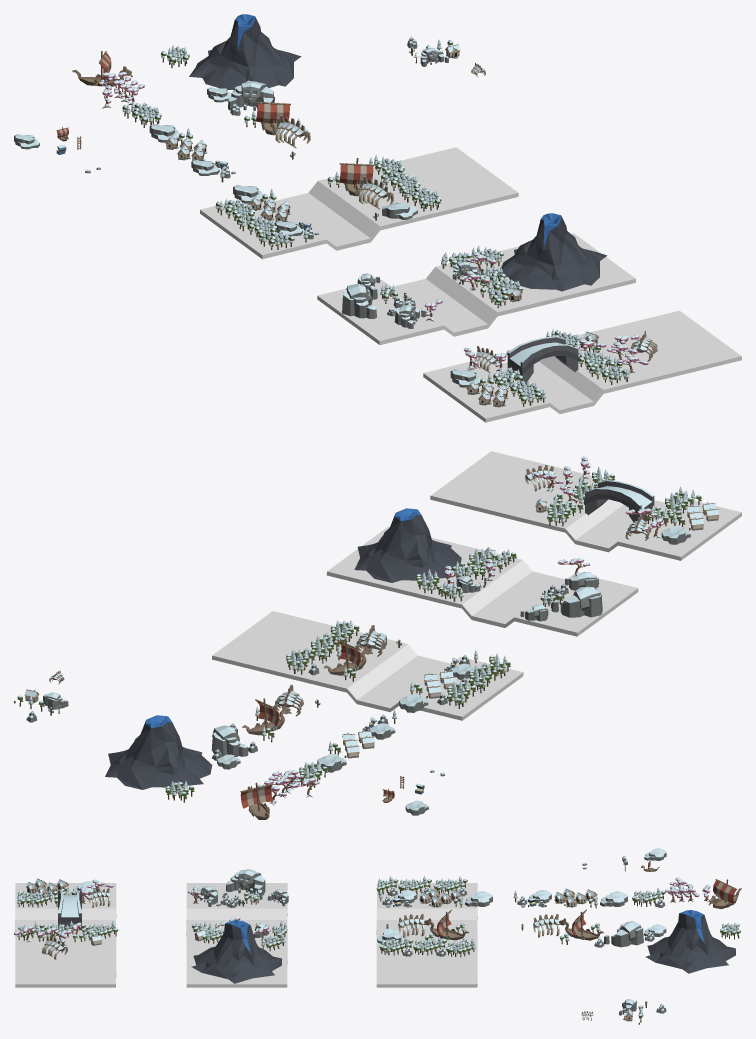
File: chi menn_002.fbx
The picture shows the model from 3 angles, top to bottom: view 1: azimuth 30°, elevation 25°; view 2: azimuth 150°, elevation 25°; view 3: azimuth 270°, elevation 25°; orthographic projection. The views are drawn at different scales.
Parts seen in each view (by area): view 1: 平面.002, 平面.003, 平面.001, SM_Tile_Hex_Mountain_05_924.001, SM_Tile_Hex_Mountain_05_924, SM_Prop_Generic_Bridge_01_Snow_1366, SM_Env_Pirate_SkullRock_01_Snow_1330.005, SM_Env_Pirate_SkullRock_01_Snow_1330.002, SM_Prop_Viking_Boat_01_652.003, SM_Prop_Viking_Boat_01_652.001; view 2: 平面.002, 平面.003, 平面.001, SM_Tile_Hex_Mountain_05_924, SM_Tile_Hex_Mountain_05_924.001, SM_Prop_Generic_Bridge_01_Snow_1366, SM_Env_Pirate_SkullRock_01_Snow_1330.005, SM_Env_Pirate_SkullRock_01_Snow_1330.002, SM_Prop_Viking_Boat_01_652.002, SM_Prop_Viking_Boat_01_652.003, SM_Prop_Viking_Boat_01_652.001; view 3: 平面.003, 平面.002, 平面.001, SM_Tile_Hex_Mountain_05_924, SM_Tile_Hex_Mountain_05_924.001, SM_Env_Pirate_SkullRock_01_Snow_1330.005, SM_Prop_Generic_Bridge_01_Snow_1366, SM_Env_Pirate_SkullRock_01_Snow_1330.002, SM_Prop_Viking_Boat_01_652.002, SM_Prop_Viking_Boat_01_652.001, SM_Prop_Viking_Boat_01_652.003, SM_Env_Dungeon_Bones_01_Snow_1240.004 (+4 smaller).
Part boxes in pixels (<box>): 平面.002: <box>200,147,518,259</box>; 平面.003: <box>423,310,741,422</box>; 平面.001: <box>317,233,635,344</box>; SM_Tile_Hex_Mountain_05_924.001: <box>500,213,607,291</box>; SM_Tile_Hex_Mountain_05_924: <box>189,14,301,89</box>; SM_Prop_Generic_Bridge_01_Snow_1366: <box>507,336,578,383</box>; SM_Env_Pirate_SkullRock_01_Snow_1330.005: <box>342,283,377,318</box>; SM_Env_Pirate_SkullRock_01_Snow_1330.002: <box>228,80,274,110</box>; SM_Prop_Viking_Boat_01_652.003: <box>339,158,374,196</box>; SM_Prop_Viking_Boat_01_652.001: <box>255,97,290,135</box>; 平面.002: <box>212,611,523,720</box>; 平面.003: <box>430,451,741,560</box>; 平面.001: <box>326,527,638,636</box>; SM_Tile_Hex_Mountain_05_924: <box>105,715,212,789</box>; SM_Tile_Hex_Mountain_05_924.001: <box>354,508,461,582</box>; SM_Prop_Generic_Bridge_01_Snow_1366: <box>585,480,654,522</box>; SM_Env_Pirate_SkullRock_01_Snow_1330.005: <box>551,586,602,617</box>; SM_Env_Pirate_SkullRock_01_Snow_1330.002: <box>211,725,248,756</box>; SM_Prop_Viking_Boat_01_652.002: <box>240,782,273,819</box>; SM_Prop_Viking_Boat_01_652.003: <box>323,638,372,675</box>; SM_Prop_Viking_Boat_01_652.001: <box>242,698,291,735</box>; 平面.003: <box>15,883,116,987</box>; 平面.002: <box>376,883,477,987</box>; 平面.001: <box>186,883,287,987</box>; SM_Tile_Hex_Mountain_05_924: <box>645,910,735,973</box>; SM_Tile_Hex_Mountain_05_924.001: <box>191,920,281,983</box>; SM_Env_Pirate_SkullRock_01_Snow_1330.005: <box>226,869,265,899</box>; SM_Prop_Generic_Bridge_01_Snow_1366: <box>58,890,81,930</box>; SM_Env_Pirate_SkullRock_01_Snow_1330.002: <box>604,921,643,947</box>; SM_Prop_Viking_Boat_01_652.002: <box>708,879,741,909</box>; SM_Prop_Viking_Boat_01_652.001: <box>558,909,603,940</box>; SM_Prop_Viking_Boat_01_652.003: <box>423,909,468,940</box>; SM_Env_Dungeon_Bones_01_Snow_1240.004: <box>398,914,424,937</box>.
Bounding box in the file's own units: 3979 × 568 × 7196.
